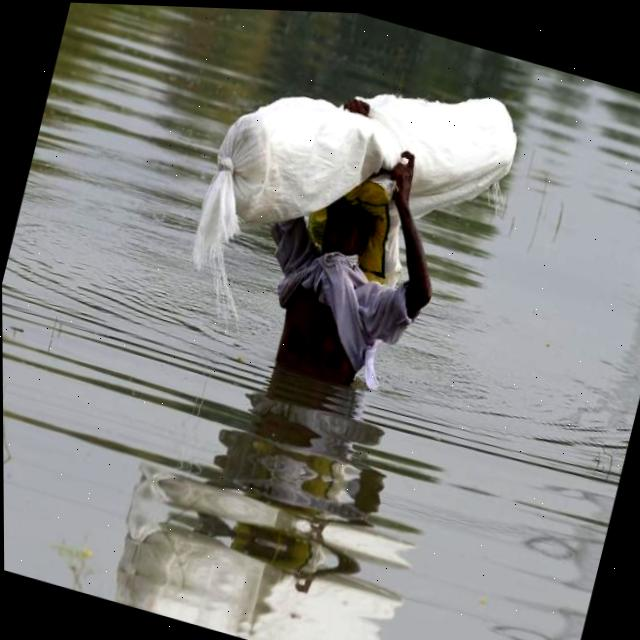civilian: (231, 101, 475, 414)
